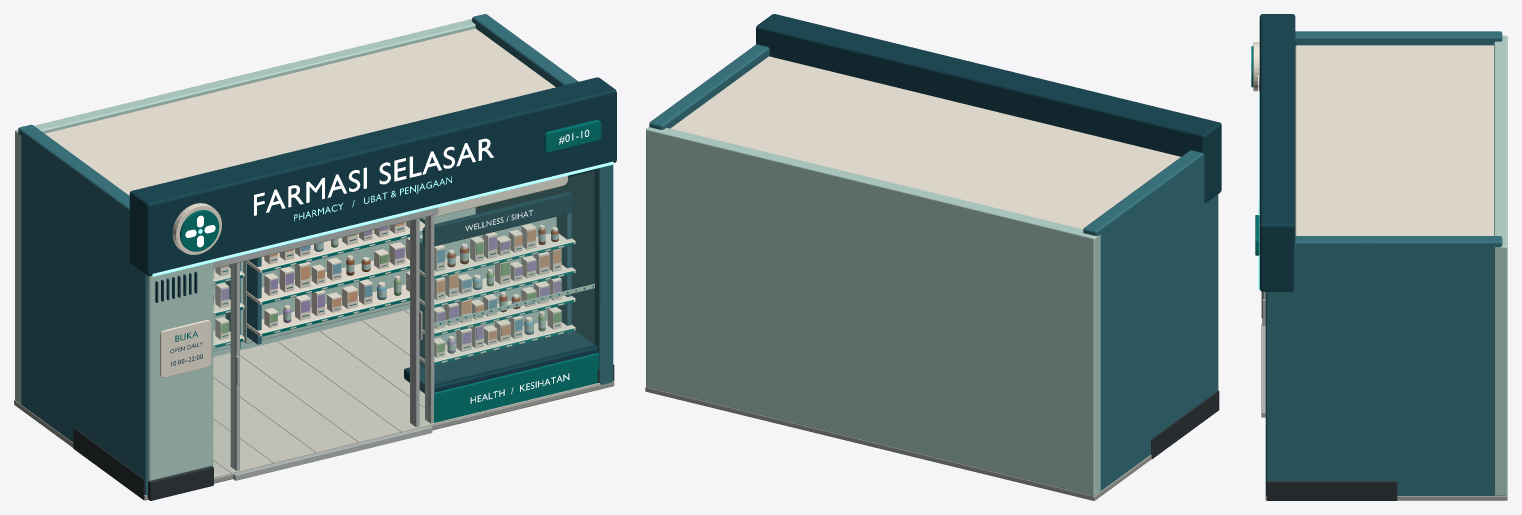
The picture shows the model from 3 angles, left to right: view 1: azimuth 30°, elevation 25°; view 2: azimuth 150°, elevation 25°; view 3: azimuth 270°, elevation 25°; orthographic projection. The views are drawn at different scales.
Visible parts, largest first — view 1: Farmasi Selasar - Structure, Farmasi Selasar - Retail Display, Farmasi Selasar - Glazing, Farmasi Selasar - Graphics; view 2: Farmasi Selasar - Structure; view 3: Farmasi Selasar - Structure, Farmasi Selasar - Graphics.
Boxes of the visible parts, left/top/right/bottom form: Farmasi Selasar - Structure: left=14, top=14, right=616, bottom=500; Farmasi Selasar - Retail Display: left=213, top=175, right=575, bottom=367; Farmasi Selasar - Glazing: left=213, top=172, right=593, bottom=473; Farmasi Selasar - Graphics: left=160, top=120, right=601, bottom=403; Farmasi Selasar - Structure: left=645, top=14, right=1221, bottom=500; Farmasi Selasar - Structure: left=1258, top=14, right=1507, bottom=500; Farmasi Selasar - Graphics: left=1250, top=42, right=1259, bottom=255.
Bounding box in the file's own units: 5.5 × 3.33 × 2.82.
